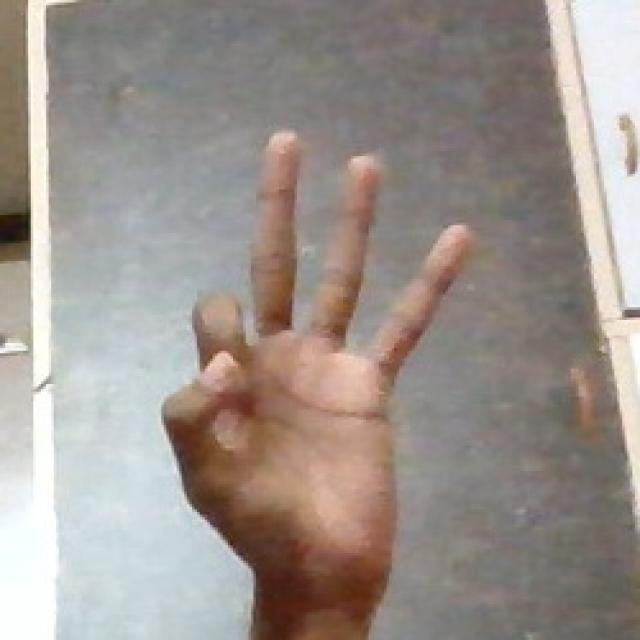Numeric-9: (160, 125, 478, 574)
